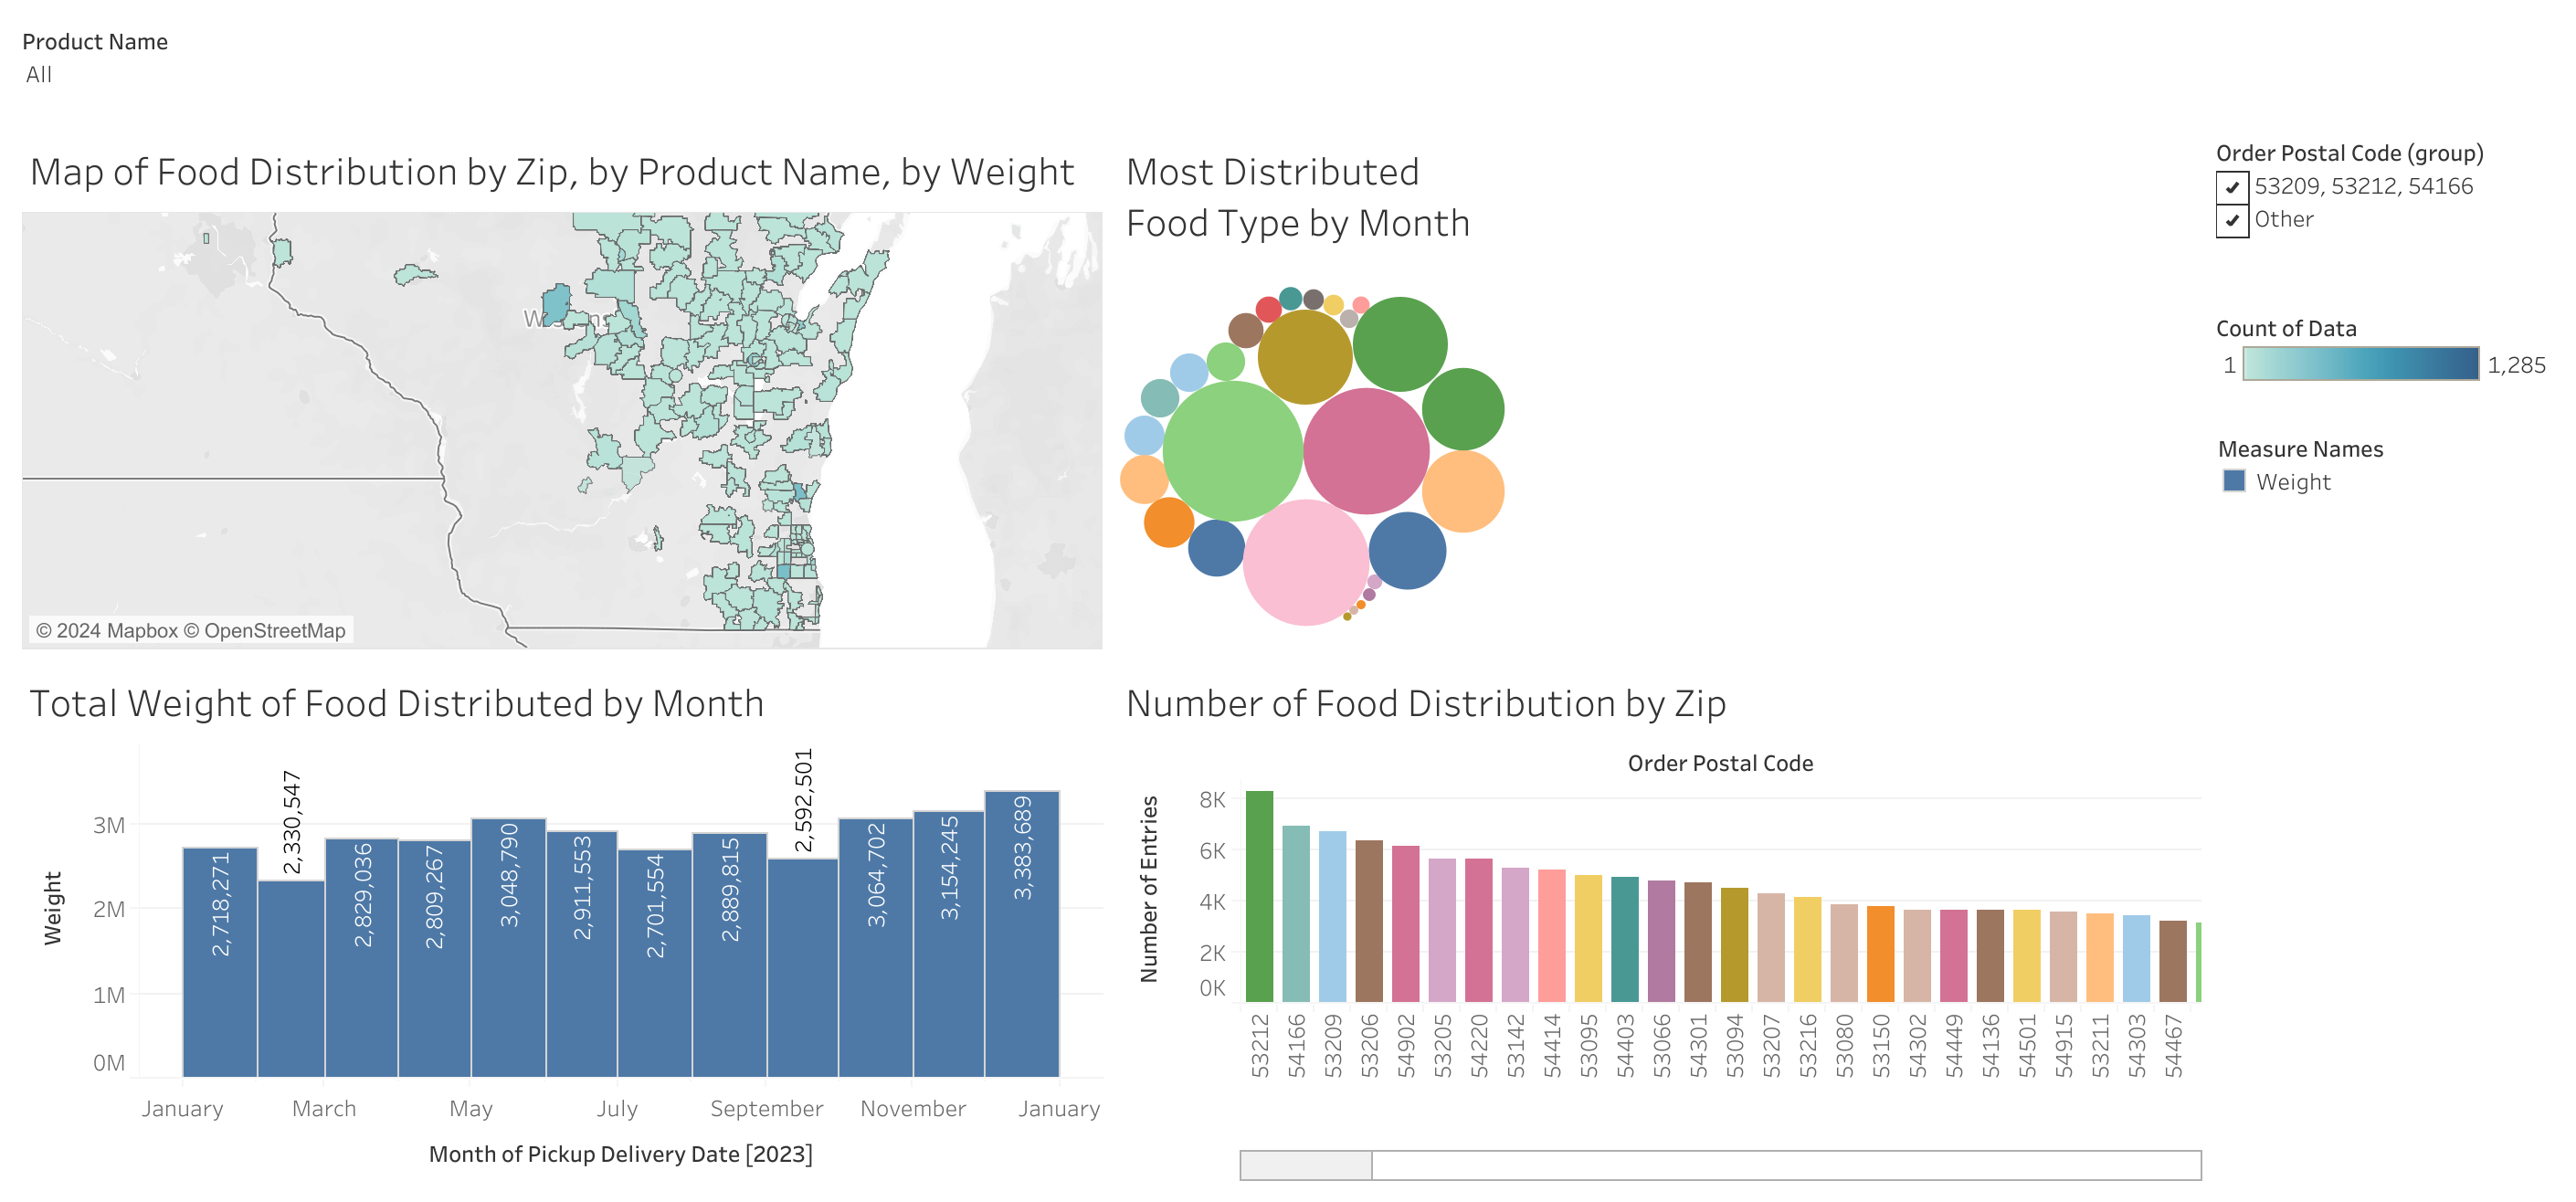

The dashboard page shown, as its layout file describes it:
{"tool":"tableau","page":{"name":"Food Distribution","canvas":[1000,1000],"units":"permille","ordinal":0},"visuals":[{"type":"filter","title":"Map of Food Distribution by Zip, by Product Name, by Weight","param":"[federated.1m5gbd81qghksr1f4kcur09omdjh].[none:Product Name:nk]","box":[5.7,11.6,988.7,75.2]},{"type":"worksheet","title":"Map of Food Distribution by Zip, by Product Name, by Weight","mark":"Automatic","box":[5.7,104.1,425.7,442.2]},{"type":"worksheet","title":"Most Distributed Food Type","mark":"Circle","box":[431.4,104.1,425.8,442.2]},{"type":"filter","title":"Map of Food Distribution by Zip, by Product Name, by Weight","param":"[federated.1m5gbd81qghksr1f4kcur09omdjh].[Order Postal Code (group)]","box":[857.1,104.1,137.2,128.8]},{"type":"legend","title":"Map of Food Distribution by Zip, by Product Name, by Weight","param":"[federated.1m5gbd81qghksr1f4kcur09omdjh].[__tableau_internal_object_id__].[cnt:D","box":[857.1,232.9,137.2,94.1]},{"type":"legend","title":"Total Weight of Food by Month","param":"[federated.1m5gbd81qghksr1f4kcur09omdjh].[:Measure Names]","box":[857.1,326.9,137.2,66.6]},{"type":"worksheet","title":"Total Weight of Food by Month","mark":"Bar","rows":["Weight"],"cols":["Pickup Delivery Date"],"box":[5.7,546.2,425.3,442.2]},{"type":"worksheet","title":"Number of Food Distribution by Zip","mark":"Automatic","rows":["Data_B1C574195C2946E08C6C728ADCAC4F84"],"cols":["Order Postal Code"],"box":[431,546.2,426.2,442.2]}]}

Visuals, with their boxes on the dashboard's canvas, which has no fixed pixel size, in thousandths of its width and height (x1, y1, x2, y2). These are canvas units, not pixel positions in the 2576x1202 screenshot, which may show the page scaled, cropped or inside an application window:
"Map of Food Distribution by Zip, by Product Name, by Weight" filter: 6:12:994:87
"Map of Food Distribution by Zip, by Product Name, by Weight" worksheet: 6:104:431:546
"Most Distributed Food Type" worksheet (Circle marks): 431:104:857:546
"Map of Food Distribution by Zip, by Product Name, by Weight" filter: 857:104:994:233
"Map of Food Distribution by Zip, by Product Name, by Weight" legend: 857:233:994:327
"Total Weight of Food by Month" legend: 857:327:994:394
"Total Weight of Food by Month" worksheet (Bar marks): 6:546:431:988
"Number of Food Distribution by Zip" worksheet: 431:546:857:988
